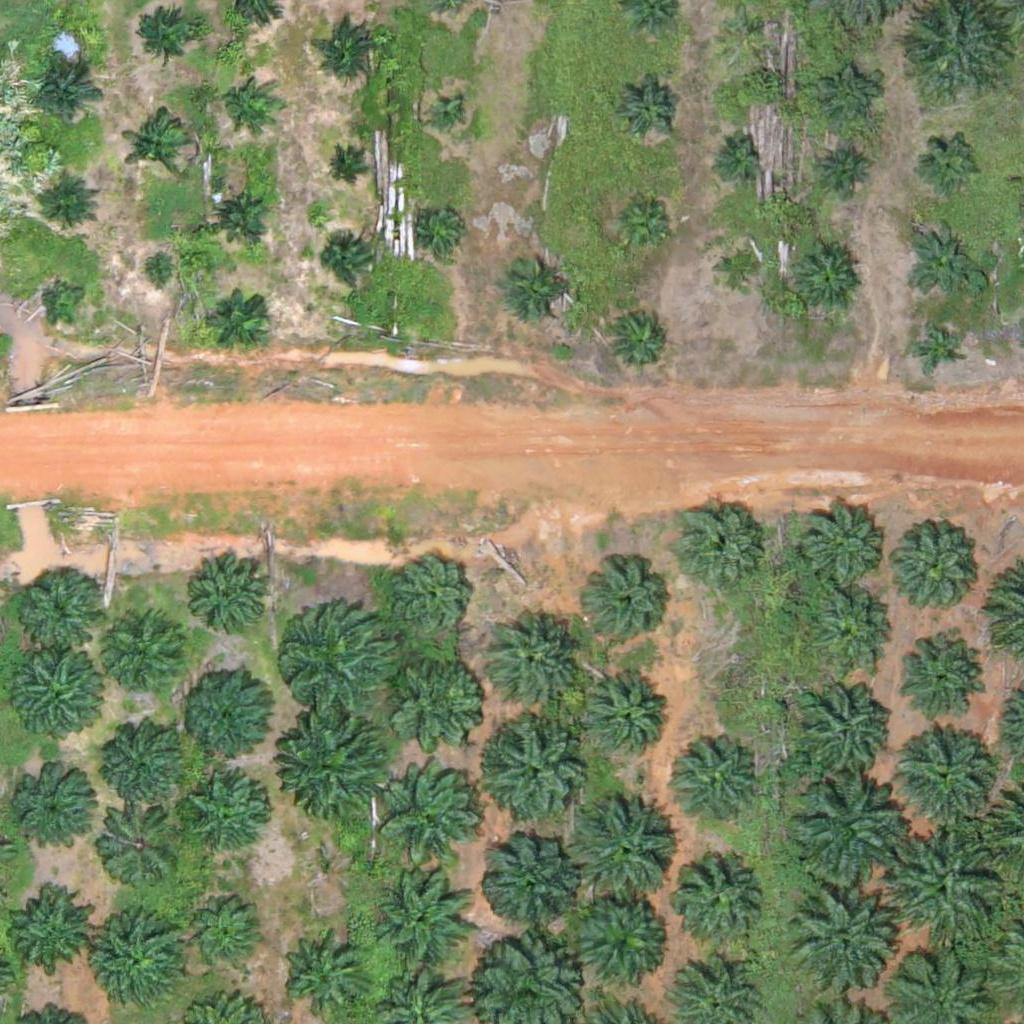Kelapa_Sawit: (276, 598, 401, 724), (789, 775, 901, 889), (888, 834, 1000, 947), (564, 791, 676, 904), (481, 719, 593, 832), (884, 515, 984, 616), (660, 735, 760, 836), (567, 889, 667, 990), (483, 611, 583, 712), (370, 868, 470, 969), (385, 765, 485, 866), (288, 716, 388, 817), (897, 725, 997, 825), (788, 894, 888, 994), (793, 678, 893, 778), (669, 850, 769, 950), (479, 831, 579, 931), (92, 916, 192, 1016), (389, 643, 489, 743), (891, 631, 979, 719), (673, 500, 761, 588), (576, 671, 664, 759), (10, 655, 98, 743), (15, 770, 103, 858), (3, 882, 91, 970), (181, 671, 268, 760), (13, 563, 100, 651), (100, 717, 187, 805), (811, 586, 898, 674), (799, 503, 886, 591), (586, 560, 673, 648), (95, 798, 182, 886), (103, 609, 190, 697), (189, 552, 276, 640), (186, 779, 273, 867), (390, 556, 477, 644), (280, 929, 367, 1017), (129, 8, 204, 84), (500, 250, 575, 326), (121, 110, 196, 186), (30, 59, 105, 134), (191, 895, 266, 970), (789, 240, 864, 315), (905, 222, 980, 297), (211, 287, 274, 350), (38, 177, 101, 240), (210, 182, 273, 245), (617, 78, 680, 141), (610, 310, 673, 373), (610, 192, 673, 255), (320, 19, 382, 82), (817, 65, 879, 128), (921, 134, 983, 197), (823, 143, 873, 194), (912, 323, 962, 374), (710, 129, 760, 180), (43, 275, 93, 326), (219, 74, 269, 124), (320, 237, 370, 287), (420, 204, 470, 254), (714, 245, 764, 295), (429, 99, 467, 137), (138, 253, 176, 291), (324, 150, 361, 188)
